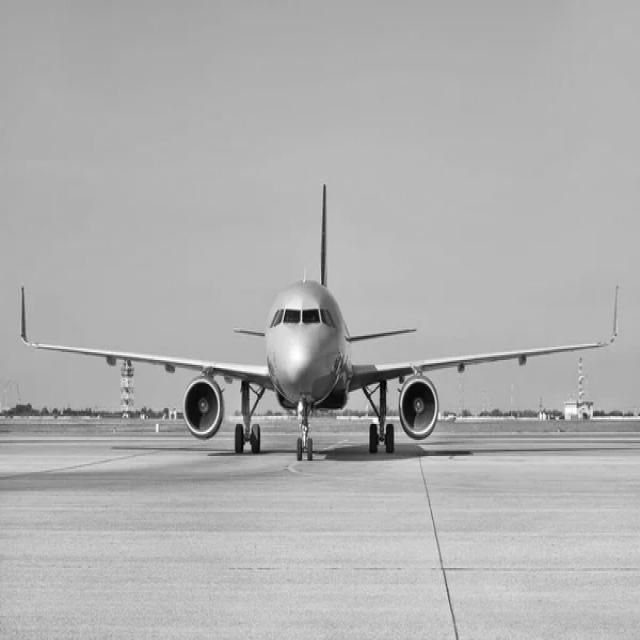Aircraft: (16, 215, 615, 466)
